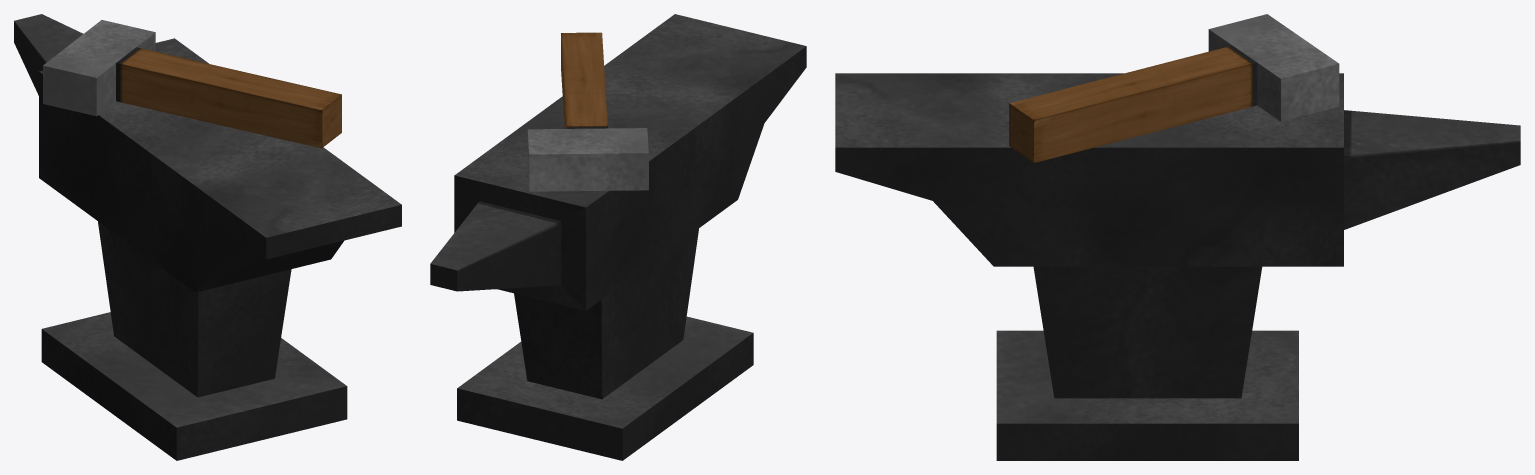
File: Anvil.fbx
3 renders of one model, left to right at view 1: azimuth 30°, elevation 25°; view 2: azimuth 150°, elevation 25°; view 3: azimuth 270°, elevation 25°, orthographic. The views are drawn at different scales.
Visible parts, largest first — view 1: pCube692; view 2: pCube692; view 3: pCube692.
Part boxes in pixels (bbox=[...]): pCube692: bbox=[14, 14, 401, 460]; pCube692: bbox=[430, 14, 806, 460]; pCube692: bbox=[835, 14, 1520, 460].
Bounding box in the file's own units: 1.29 × 1.96 × 3.5.
